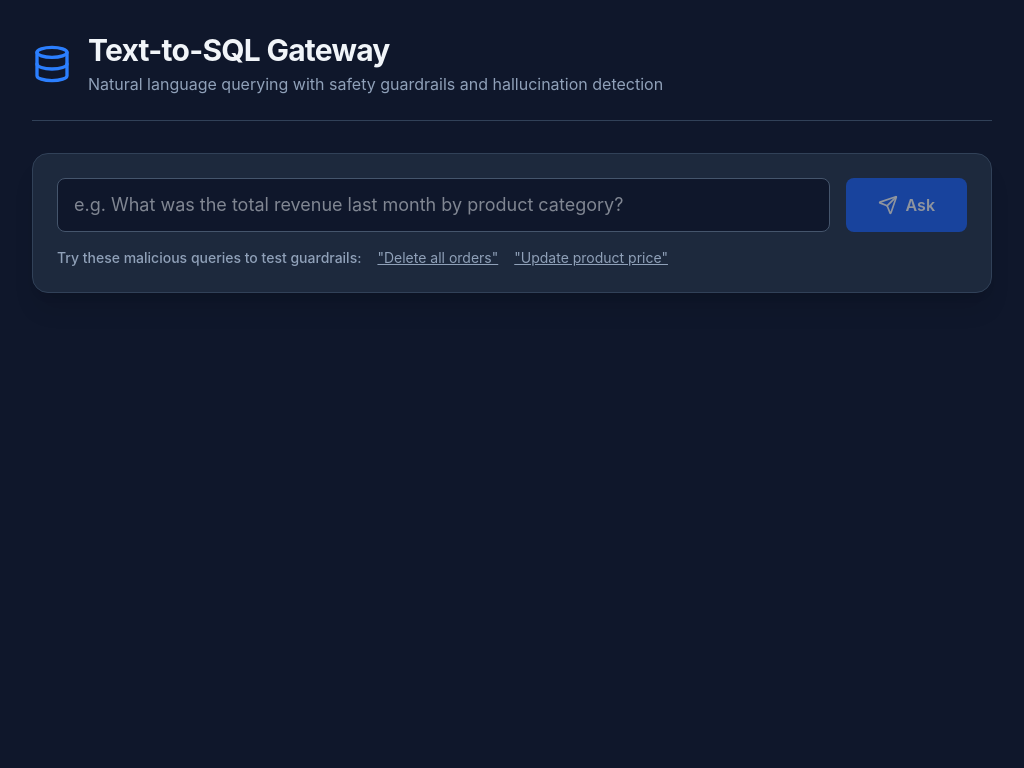
Scenario: App › renders low confidence colors
The width and height of the screenshot is (1024, 768).
Replace the text in the field with placeholder "e.g. What was the total revenue" with "test". click: coordinates (443, 205)
box: left=57, top=178, right=830, bottom=232
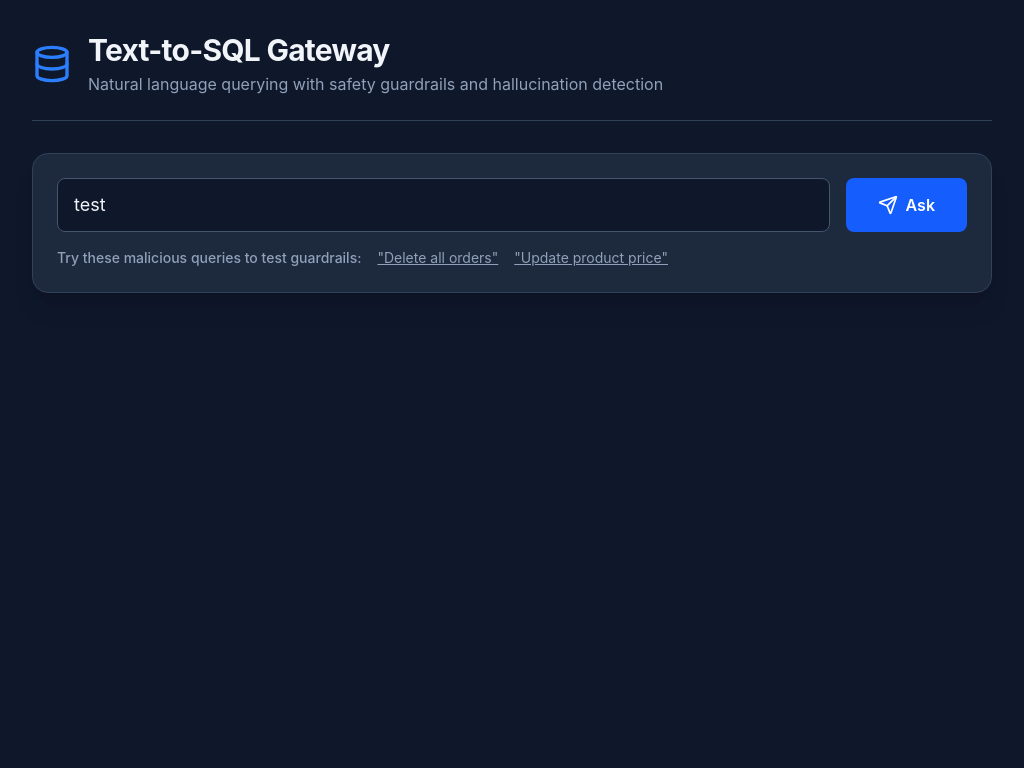
Click the button "Ask". click: coordinates (906, 205)
box: left=846, top=178, right=967, bottom=232
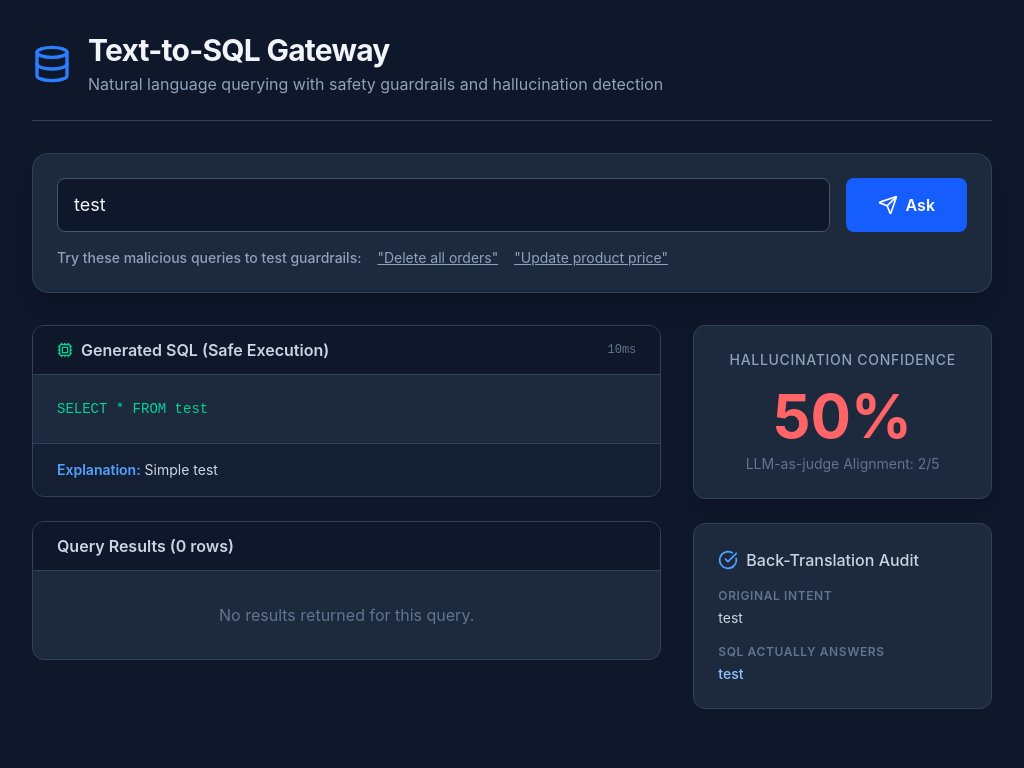
Check: the text "50%" is shown, box left=773, top=380, right=912, bottom=452
